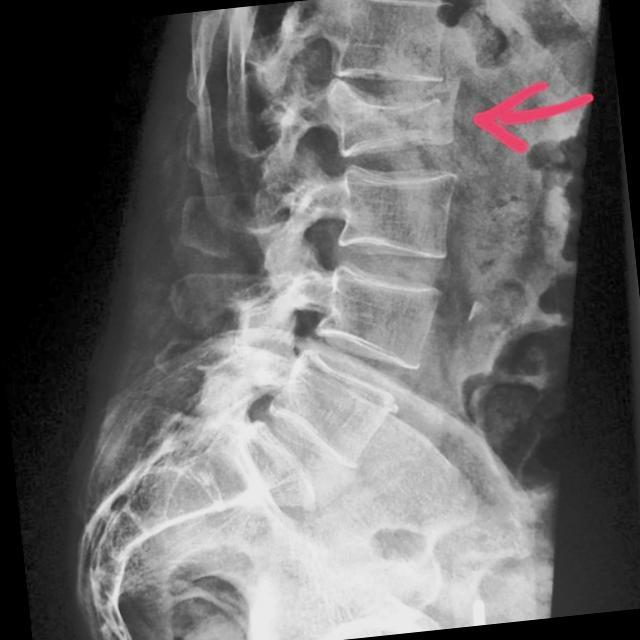Impact Fracture: (316, 68, 462, 163)
